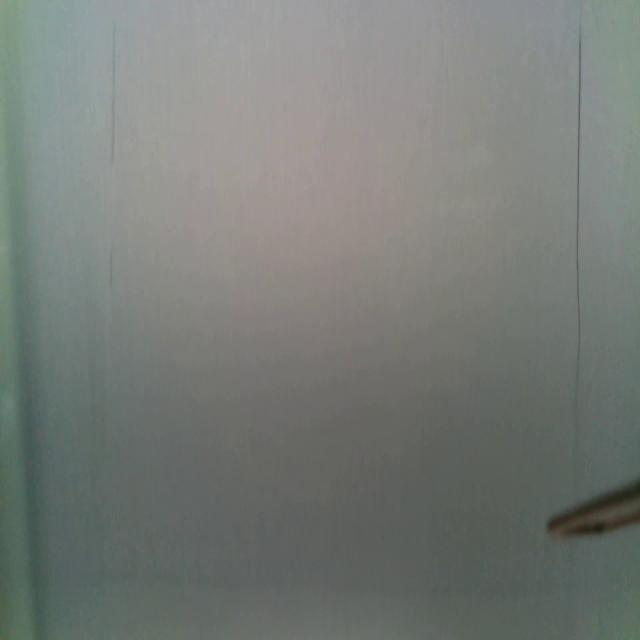crease: (575, 12, 583, 386), (109, 20, 119, 164)
